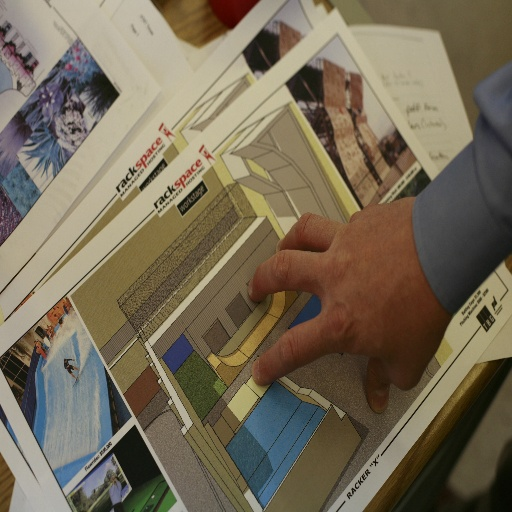hand: (242, 197, 450, 400)
